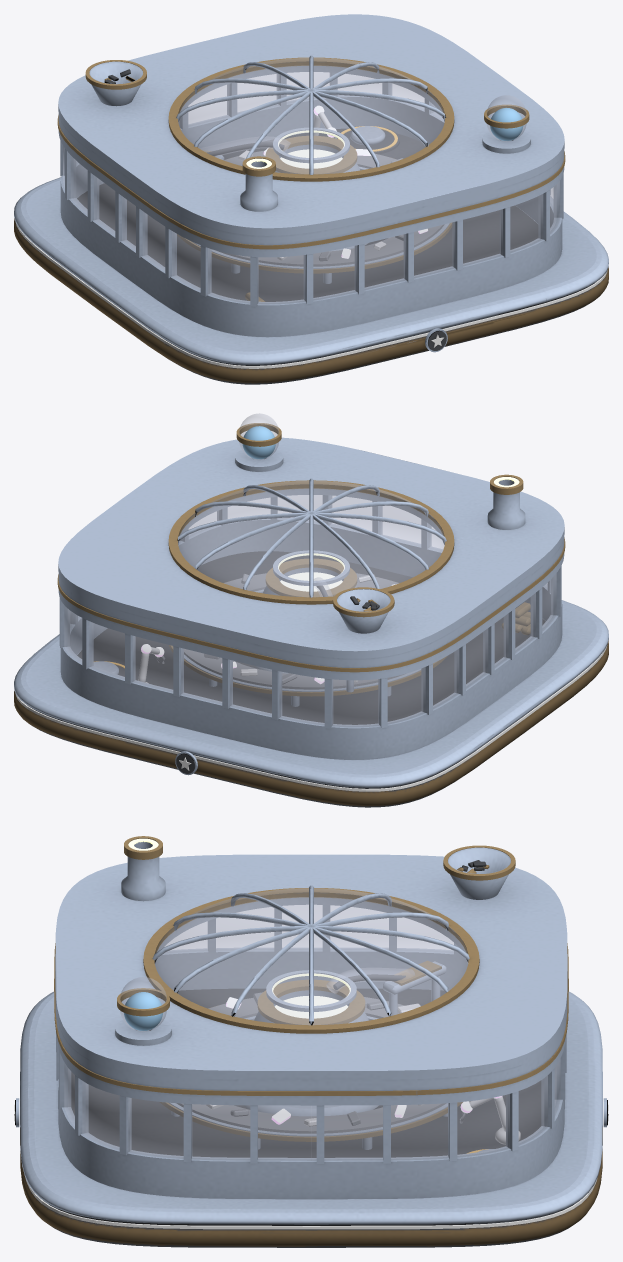
The model's file is SM_Evo_MaterialReclaimer.fbx.
3 views of the same model, one above another, from view 1: azimuth 30°, elevation 25°; view 2: azimuth 150°, elevation 25°; view 3: azimuth 270°, elevation 25° (orthographic). The views are drawn at different scales.
Parts seen in each view (by area): view 1: SMN_Evo_MaterialReclaimer, Emblem_Fx_MaterialReclaimer, SpinDish_MaterialReclaimer; view 2: SMN_Evo_MaterialReclaimer, Emblem_Fx_MaterialReclaimer, SpinDish_MaterialReclaimer; view 3: SMN_Evo_MaterialReclaimer, Emblem_Fx_MaterialReclaimer, SpinDish_MaterialReclaimer, SpinDish_MaterialReclaimerArm.
Part boxes in pixels (left/top/right/bottom): SMN_Evo_MaterialReclaimer: left=14, top=14, right=608, bottom=384; Emblem_Fx_MaterialReclaimer: left=15, top=58, right=607, bottom=368; SpinDish_MaterialReclaimer: left=218, top=148, right=444, bottom=266; SMN_Evo_MaterialReclaimer: left=14, top=423, right=608, bottom=807; Emblem_Fx_MaterialReclaimer: left=15, top=413, right=607, bottom=791; SpinDish_MaterialReclaimer: left=184, top=573, right=404, bottom=689; SMN_Evo_MaterialReclaimer: left=15, top=836, right=607, bottom=1247; Emblem_Fx_MaterialReclaimer: left=14, top=838, right=608, bottom=1229; SpinDish_MaterialReclaimer: left=177, top=992, right=445, bottom=1133; SpinDish_MaterialReclaimerArm: left=460, top=1096, right=520, bottom=1144.
Size of the model in its own units: 1.84 by 0.78 by 1.88.
